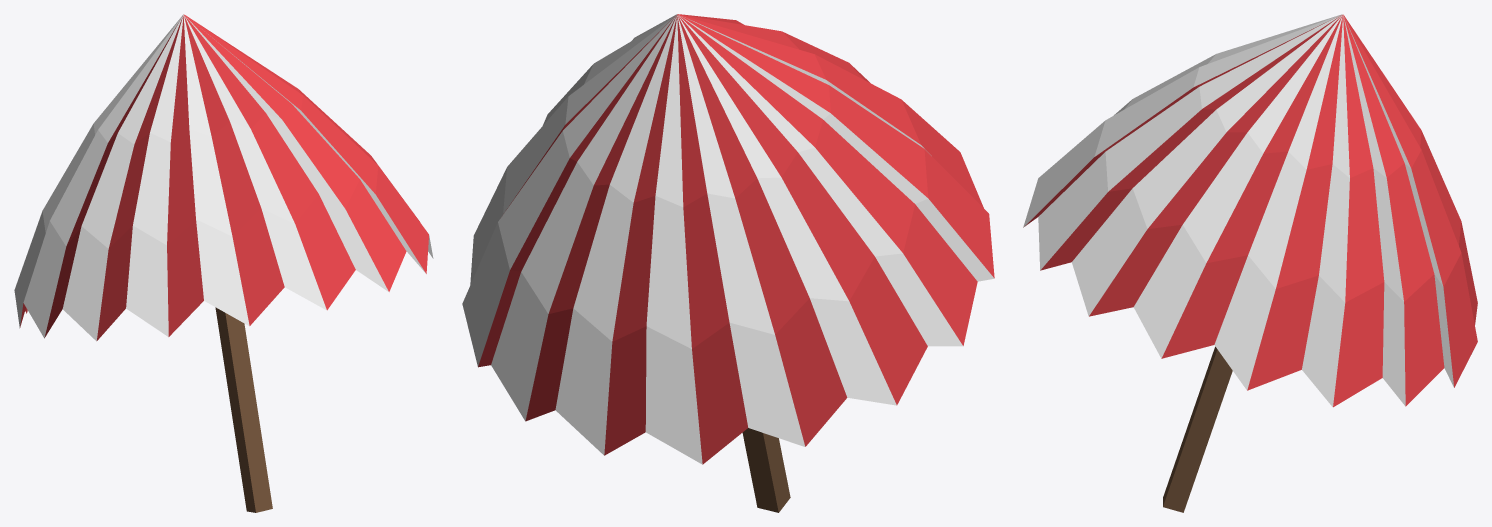
File: umbrella.fbx
3 views of the same model, side by side, from view 1: azimuth 30°, elevation 25°; view 2: azimuth 150°, elevation 25°; view 3: azimuth 270°, elevation 25° (orthographic). The views are drawn at different scales.
Visible parts, largest first — view 1: umbrella; view 2: umbrella; view 3: umbrella.
Part boxes in pixels (bbox=[...]): umbrella: bbox=[14, 14, 433, 512]; umbrella: bbox=[462, 14, 994, 512]; umbrella: bbox=[1023, 14, 1477, 512].
Size of the model in its own units: 117 by 136 by 114.
